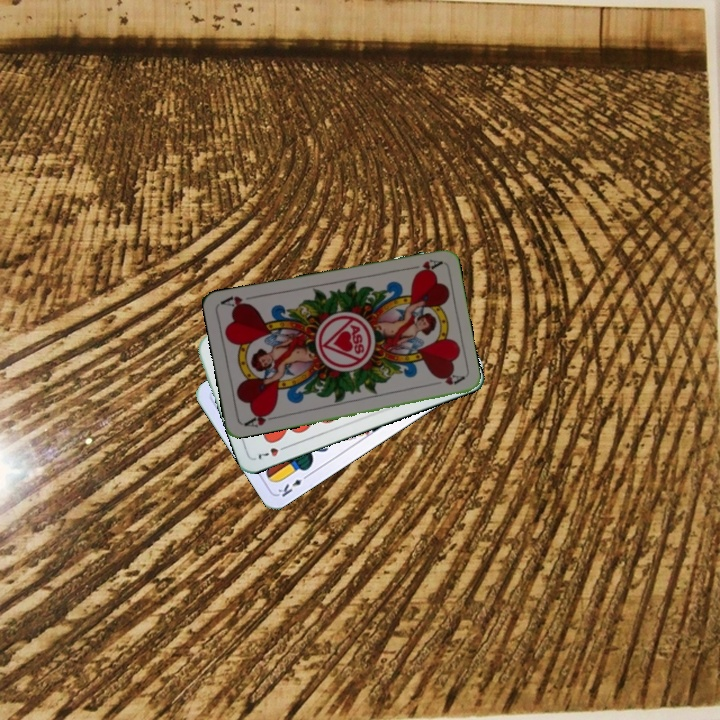EK: (274, 470, 312, 499)
H7: (252, 441, 291, 462)
HA: (240, 407, 280, 430), (403, 255, 443, 277)
